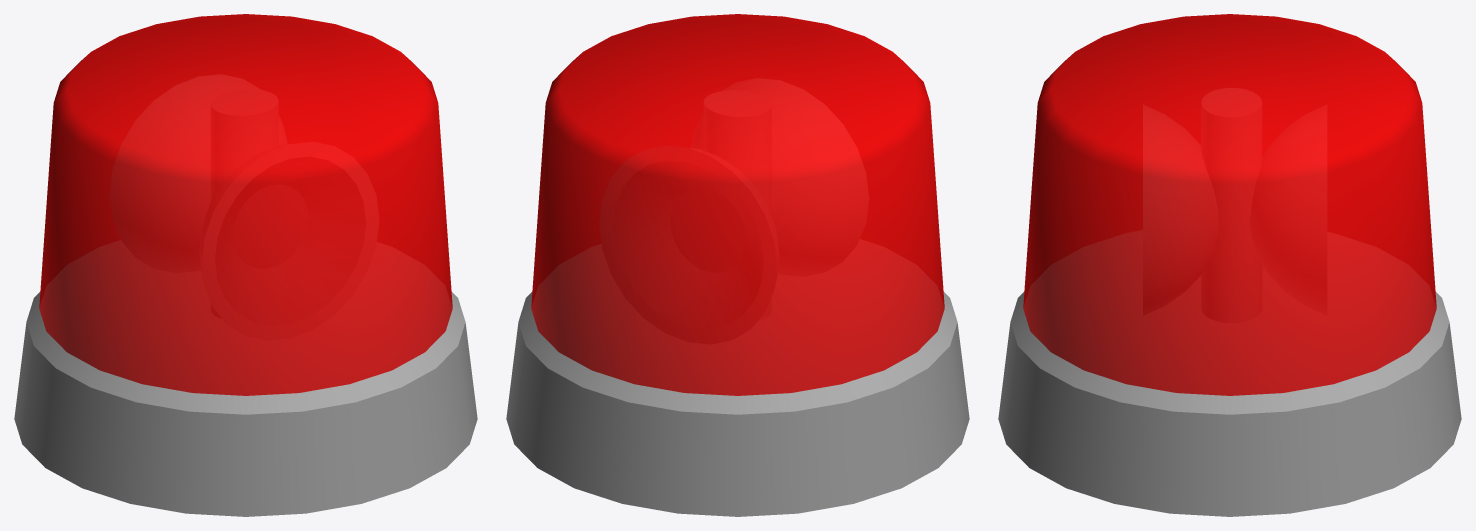
Rendered from emergencylight.dae.
The picture shows the model from 3 angles, left to right: view 1: azimuth 30°, elevation 25°; view 2: azimuth 150°, elevation 25°; view 3: azimuth 270°, elevation 25°; orthographic projection.
Visible parts, largest first — view 1: SketchUp (×2); view 2: SketchUp (×2); view 3: SketchUp (×2).
Part boxes in pixels (left/top/right/bottom): SketchUp (×2): left=14, top=14, right=477, bottom=516; SketchUp (×2): left=506, top=14, right=969, bottom=516; SketchUp (×2): left=998, top=14, right=1461, bottom=516.
Bounding box in the file's own units: 55.12 × 55.12 × 43.25.
